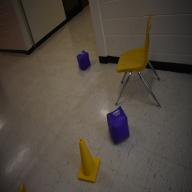cone: (78, 138, 100, 183), (20, 183, 26, 192)
cube: (106, 106, 130, 144), (76, 50, 90, 71)
